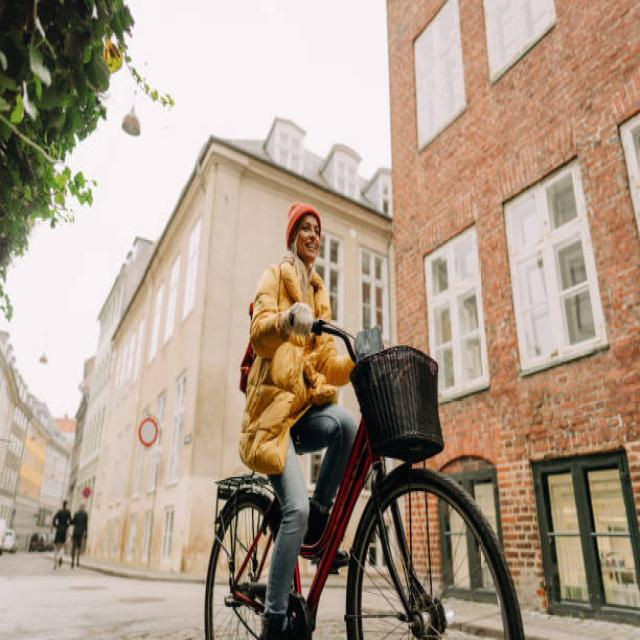bicycle: (205, 204, 522, 639)
